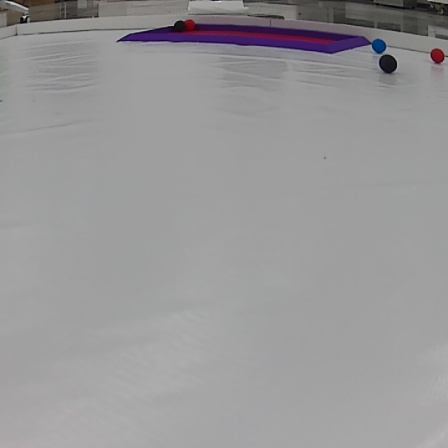black: (382, 56, 396, 73), (174, 20, 184, 32)
blue: (373, 40, 388, 53)
red: (429, 46, 446, 66), (185, 21, 196, 30)
red_aim: (134, 21, 365, 56)
